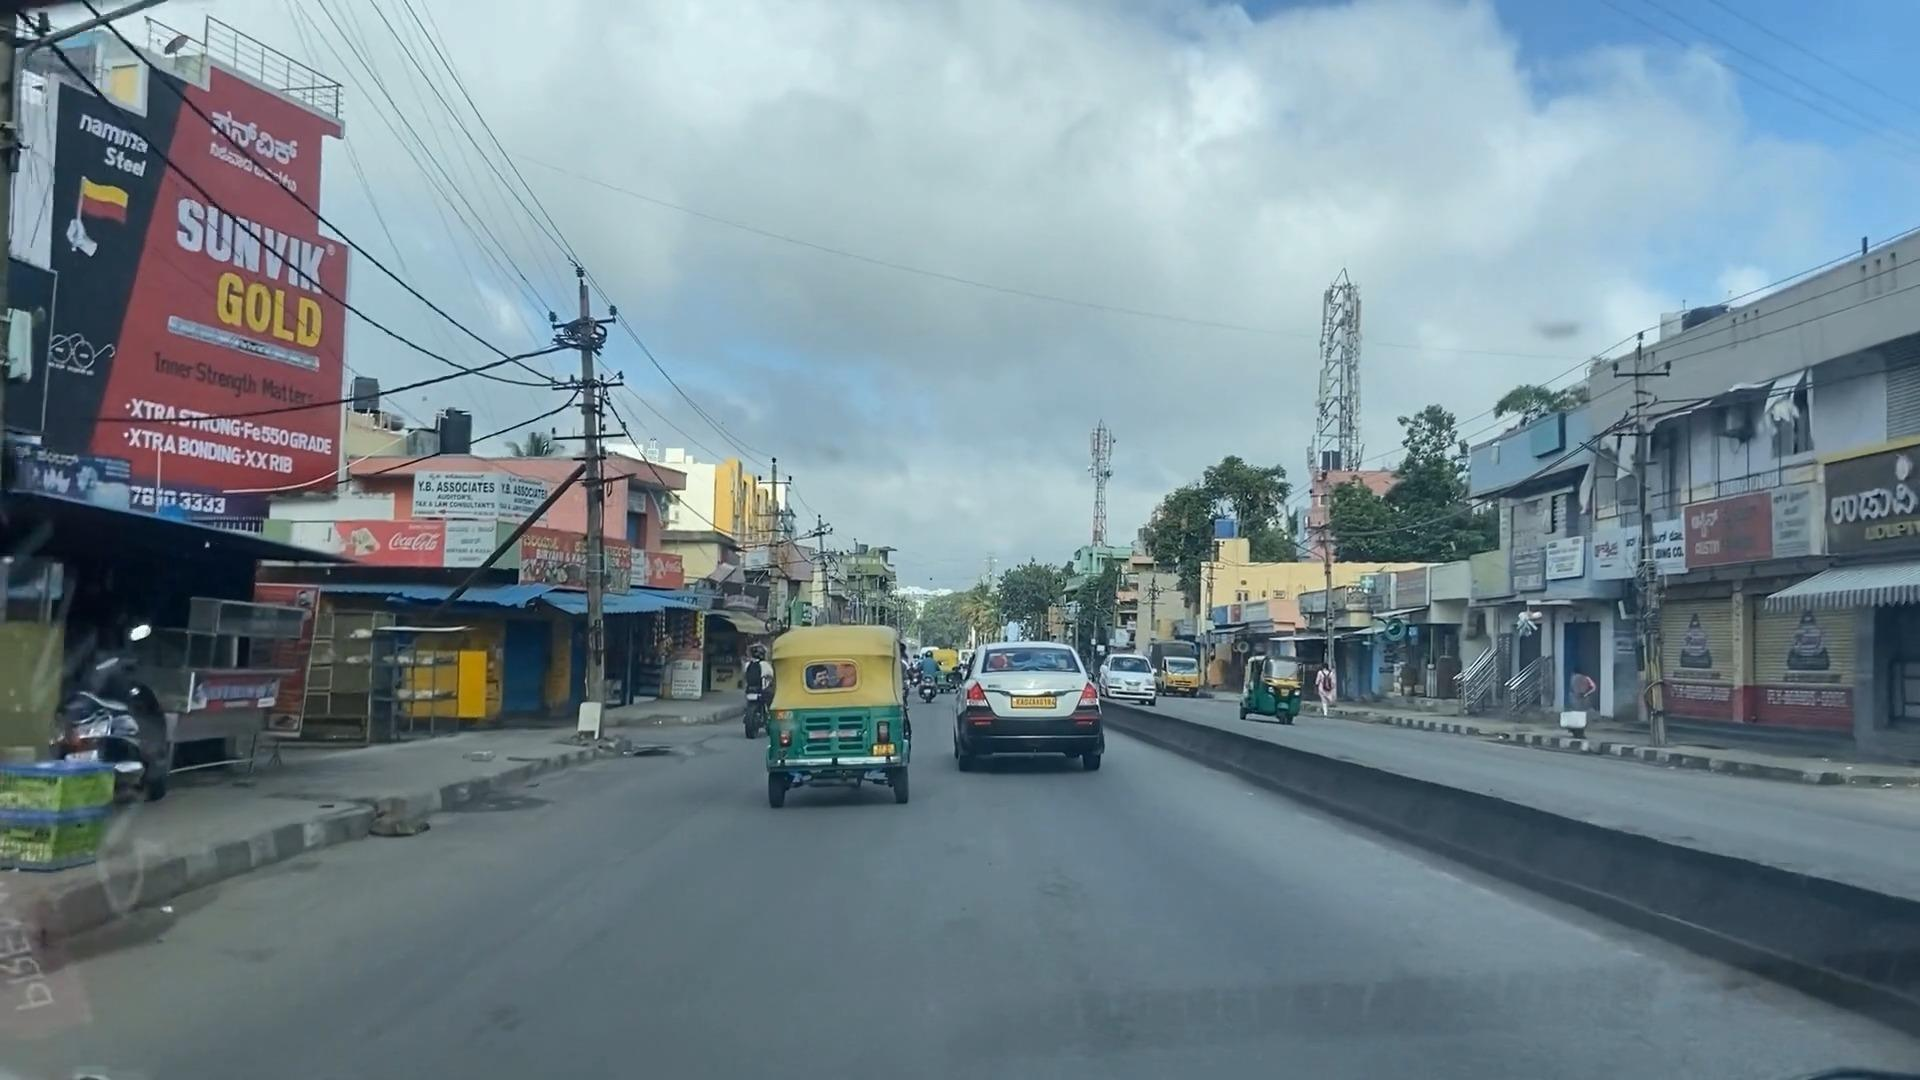LMV: (770, 628, 916, 800), (952, 640, 1112, 774)
